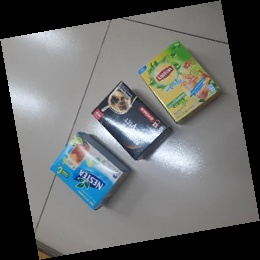CF Viet: (89, 80, 173, 162)
LipTon: (137, 42, 221, 125)
Nestea: (50, 131, 129, 210)
